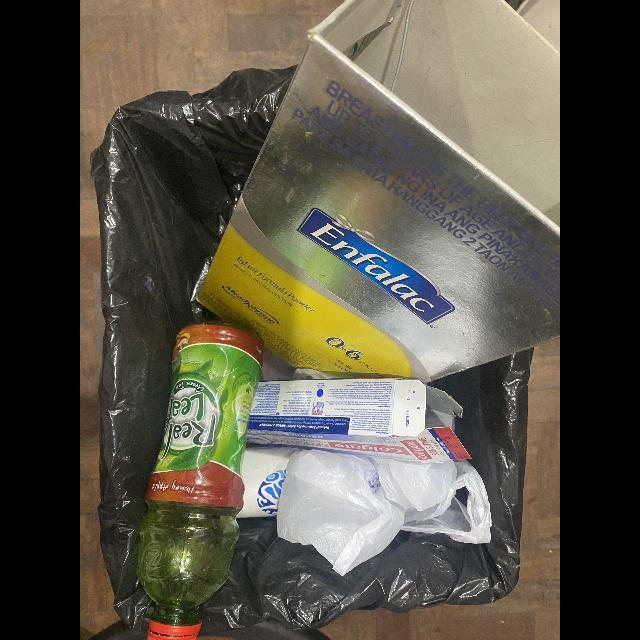paper: (196, 0, 560, 383), (247, 378, 473, 463)
plastic: (137, 324, 264, 640), (277, 450, 492, 577), (236, 443, 299, 518)
